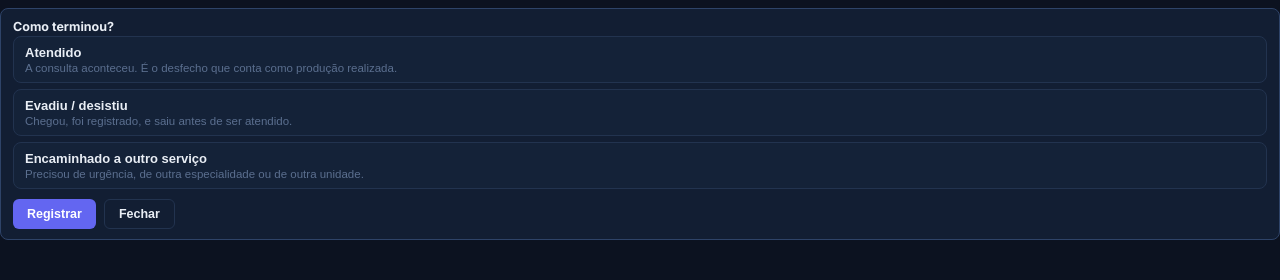
Scenario: EscolhaRegistro — a escolha mora na tela › 🔴 não grava nada sem escolha — e diz o que falta
Click the button "Registrar": x=54, y=214 [13,199,96,229]
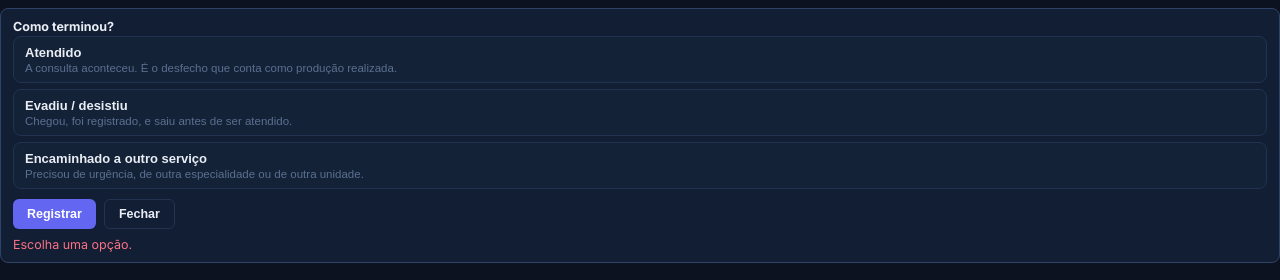
Result: the message shows "Escolha uma opção" at [13,237,132,252]
